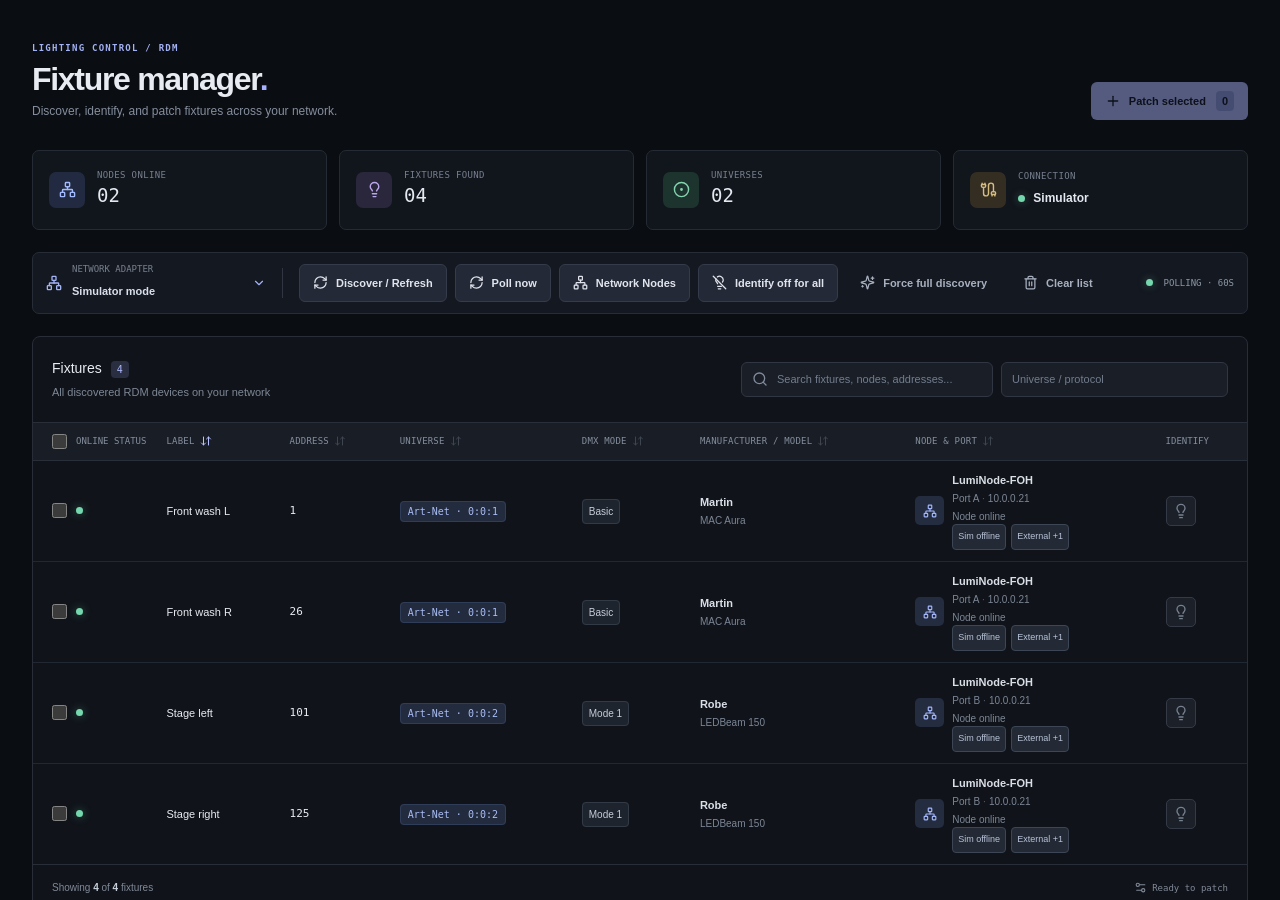
Test: keeps the fixture controls and selection count without redundant navigation and status bars
Expected: the dropdown named "Network adapter" is shown, [72,283,242,299]
Click the row that starts with "Front wash L" at (640, 511), box [33,460,1247,561]
(page scrolled)
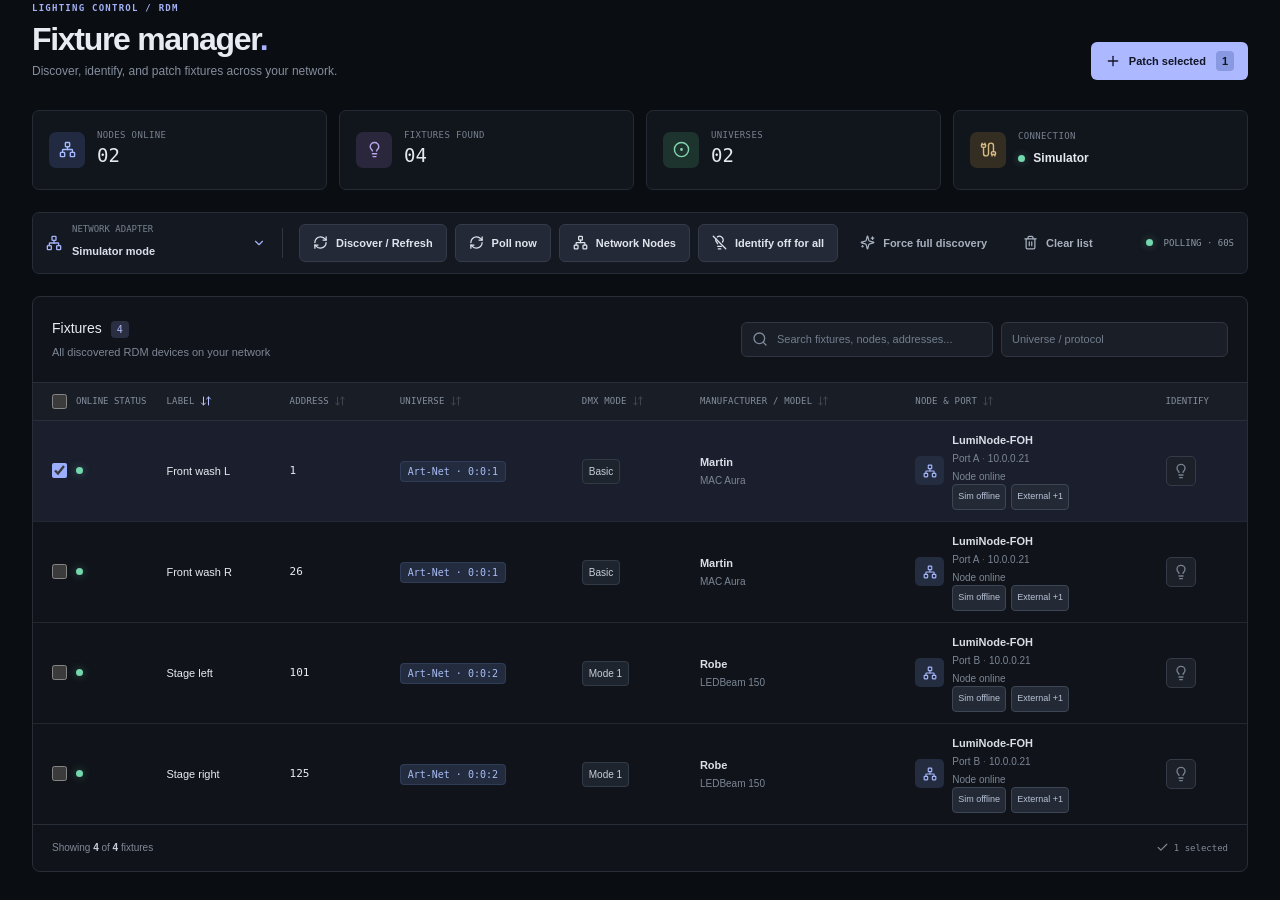
Expected: the element with class "table-footer" shows "1 selected", [33,824,1247,871]
